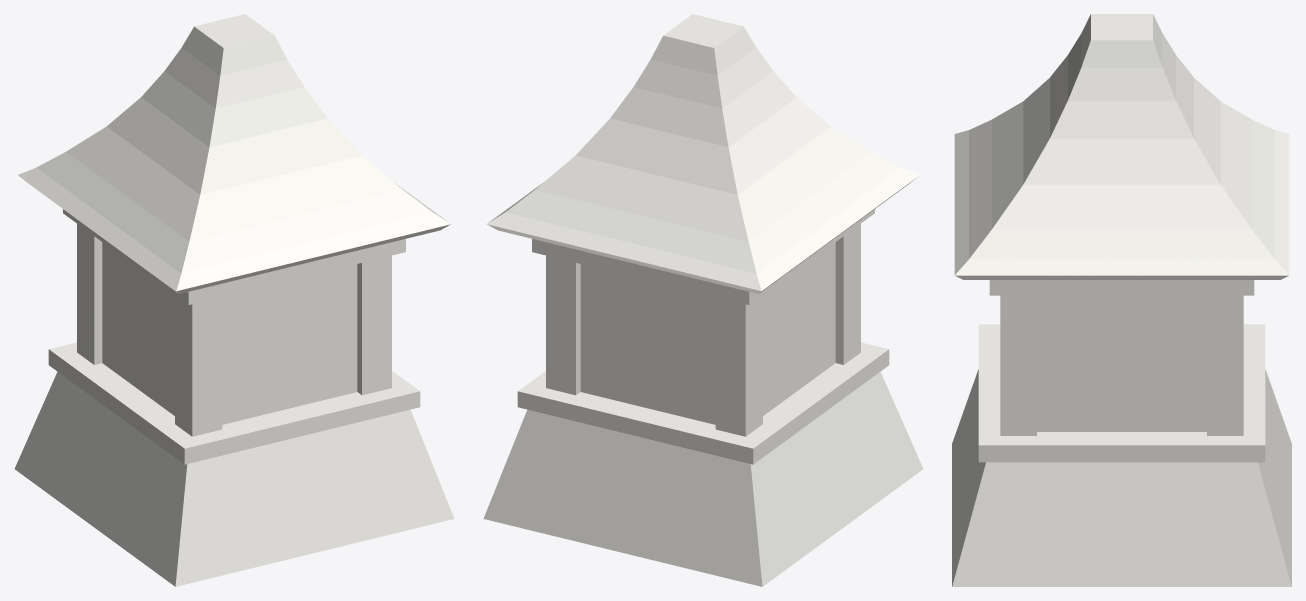
File: Cupola_18 inch Monterey.obj
3 renders of one model, left to right at view 1: azimuth 30°, elevation 25°; view 2: azimuth 150°, elevation 25°; view 3: azimuth 270°, elevation 25°, orthographic. The views are drawn at different scales.
Visible parts, largest first — view 1: Wood, Shingles, Inset; view 2: Wood, Shingles, Inset; view 3: Wood, Shingles, Inset.
Part boxes in pixels (bbox=[...]): Wood: bbox=[14, 14, 454, 586]; Shingles: bbox=[18, 32, 450, 290]; Inset: bbox=[102, 242, 357, 424]; Wood: bbox=[483, 14, 923, 586]; Shingles: bbox=[487, 32, 919, 290]; Inset: bbox=[580, 242, 835, 424]; Wood: bbox=[952, 14, 1291, 586]; Shingles: bbox=[954, 19, 1289, 275]; Inset: bbox=[1037, 295, 1206, 431].
Size of the model in its own units: 0.4614 by 0.7315 by 0.4614.
